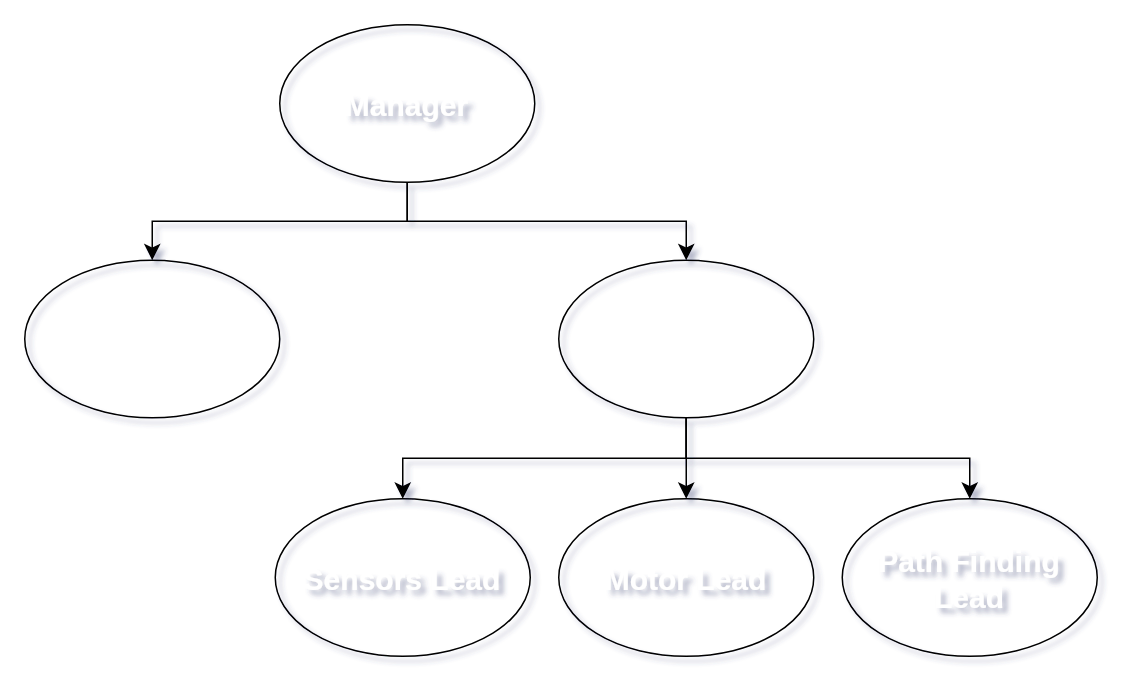
Some shapes in this 1122 by 681 pixel diagram are drawn without their labels. The shapes that lost their labels are listed below. From the top down, each one's box as (x1, y1, x2, y2) in pixels, then its label:
(23, 259, 280, 418): Maze Gen. Lead
(557, 259, 814, 418): Robot Lead
